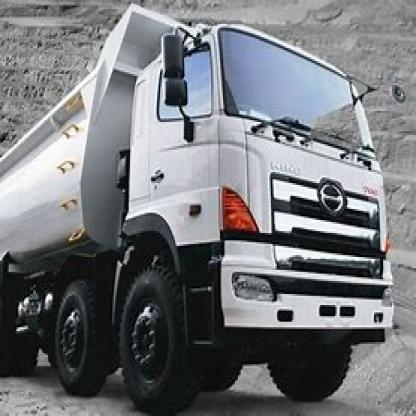dump_truck: (52, 17, 388, 403)
